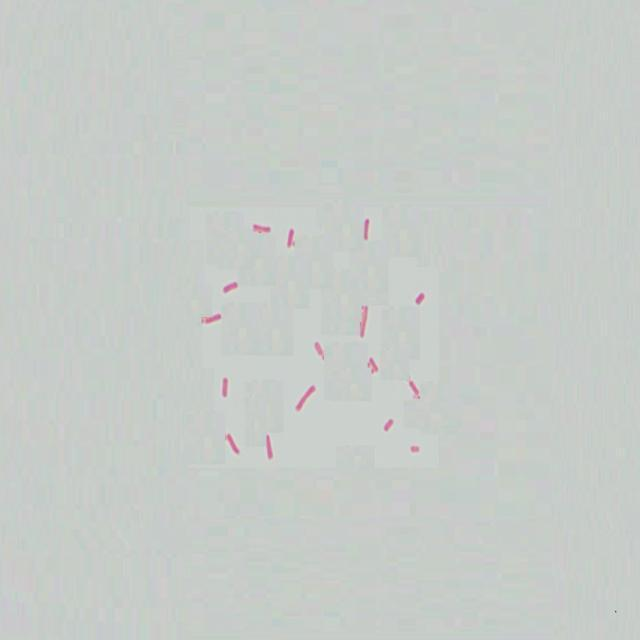E-coli: (293, 383, 319, 413), (223, 428, 243, 463), (356, 299, 370, 341), (263, 430, 277, 467), (200, 310, 227, 328), (359, 215, 372, 249), (250, 219, 272, 239), (413, 290, 432, 312), (283, 223, 296, 255), (220, 371, 232, 403), (407, 379, 423, 403), (312, 339, 327, 363), (217, 280, 239, 295), (382, 419, 400, 435), (407, 441, 423, 459), (369, 355, 381, 375)
